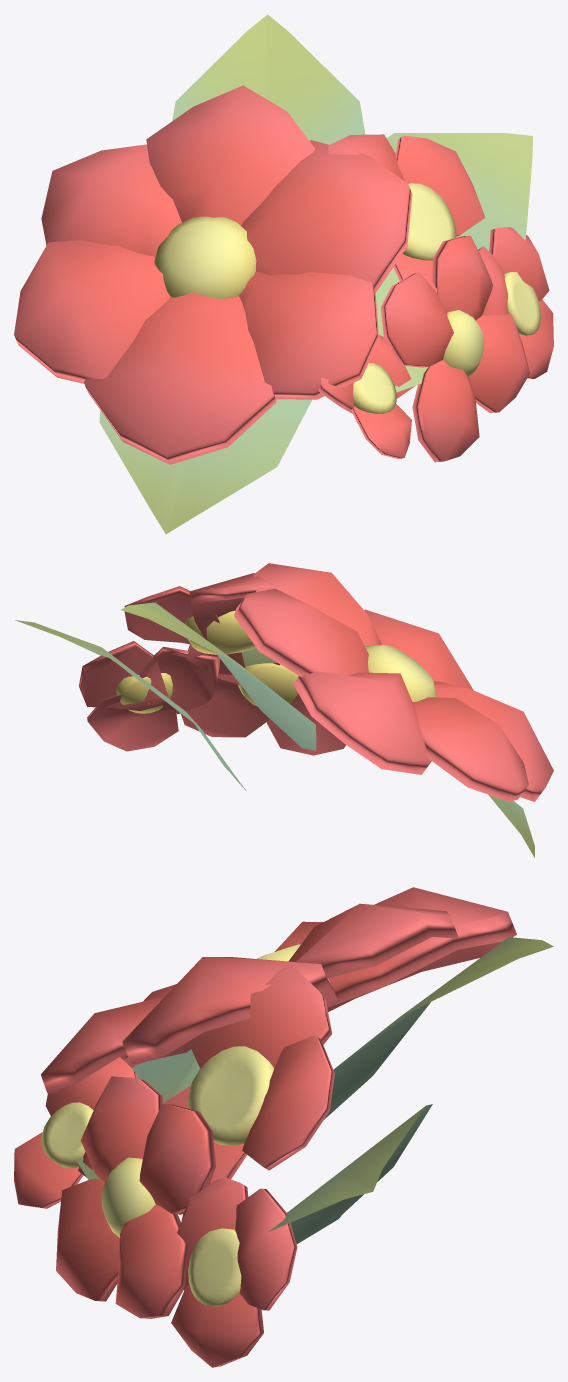
File: Flower2_Textured.fbx
3 views of the same model, one above another, from view 1: azimuth 30°, elevation 25°; view 2: azimuth 150°, elevation 25°; view 3: azimuth 270°, elevation 25° (orthographic). The views are drawn at different scales.
Visible parts, largest first — view 1: Flower2_Textured; view 2: Flower2_Textured; view 3: Flower2_Textured.
Boxes of the visible parts, x1,y1,x2,y2 form: Flower2_Textured: (14,14,553,534); Flower2_Textured: (15,563,553,857); Flower2_Textured: (14,887,553,1367).
Bounding box in the file's own units: 41.99 × 24.66 × 30.89.
Materials: 3 (3 with a texture image).
